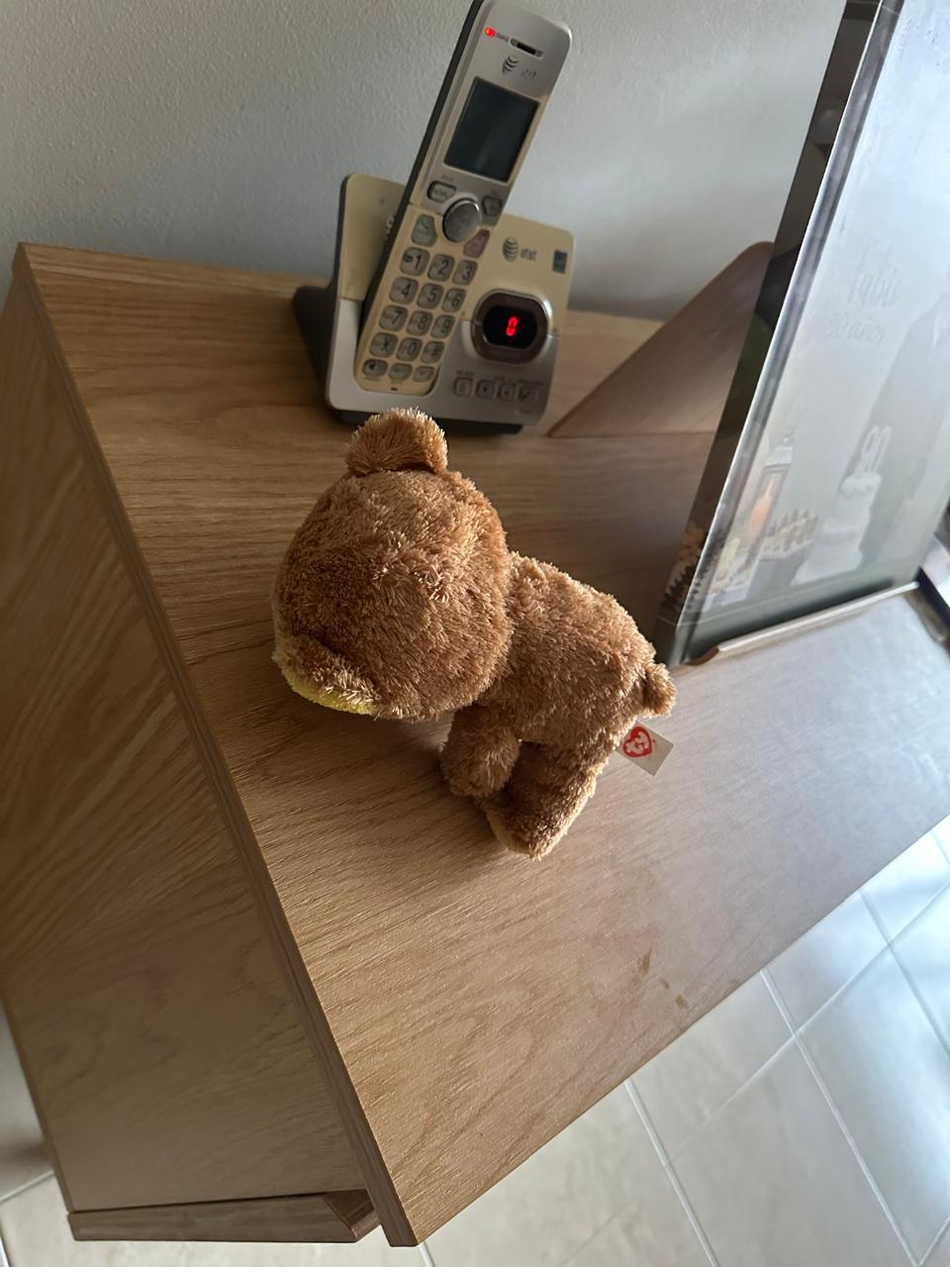peluche_sebastian: (265, 411, 675, 859)
